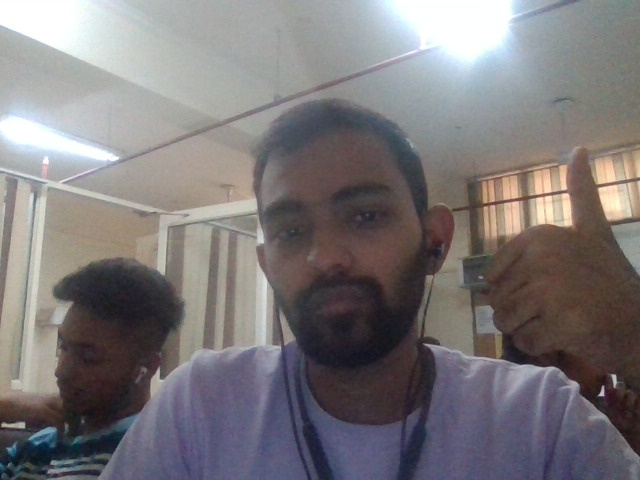Yes: (481, 146, 640, 377)
